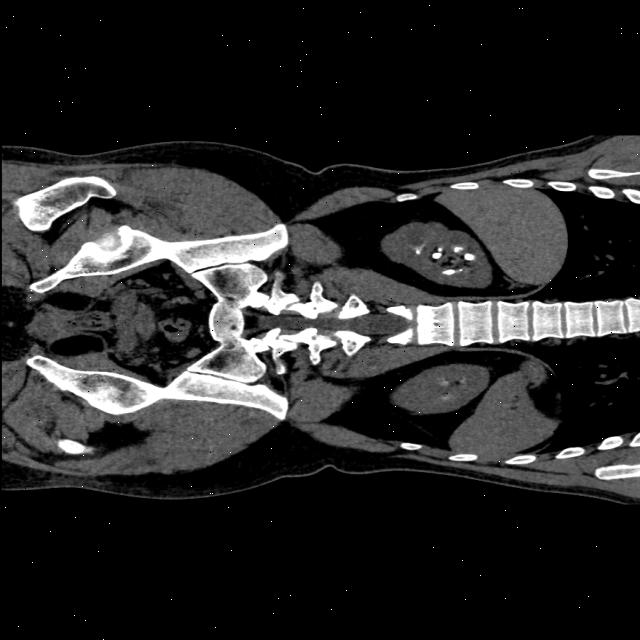kidneystone: (413, 242, 425, 254), (431, 248, 441, 260), (463, 252, 475, 261), (453, 245, 464, 254), (442, 269, 455, 275)
